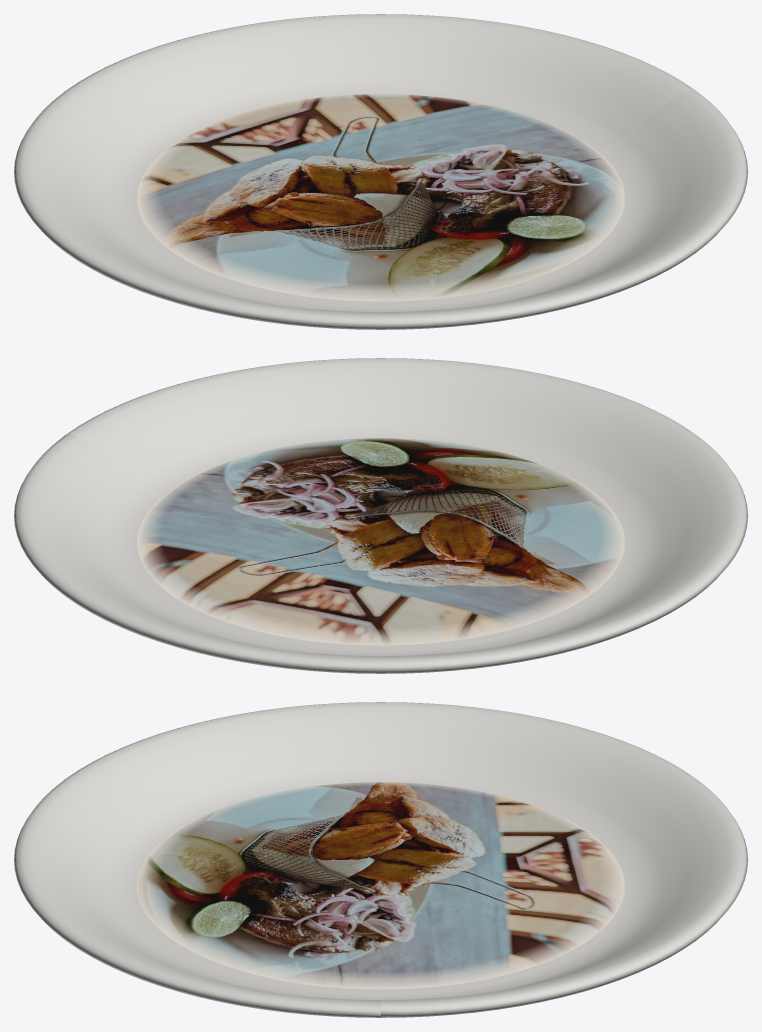
File: poisson-braise-attieke.glb
3 views of the same model, one above another, from view 1: azimuth 30°, elevation 25°; view 2: azimuth 150°, elevation 25°; view 3: azimuth 270°, elevation 25° (orthographic).
Visible parts, largest first — view 1: assiette, plat; view 2: assiette, plat; view 3: assiette, plat.
Boxes of the visible parts, bbox=[...] form: assiette: bbox=[14, 14, 747, 329]; plat: bbox=[137, 94, 624, 301]; assiette: bbox=[14, 358, 747, 673]; plat: bbox=[137, 438, 624, 645]; assiette: bbox=[14, 702, 747, 1017]; plat: bbox=[137, 782, 624, 989].
Bounding box in the file's own units: 0.301 × 0.0232 × 0.301.
2 materials, 1 textured.
